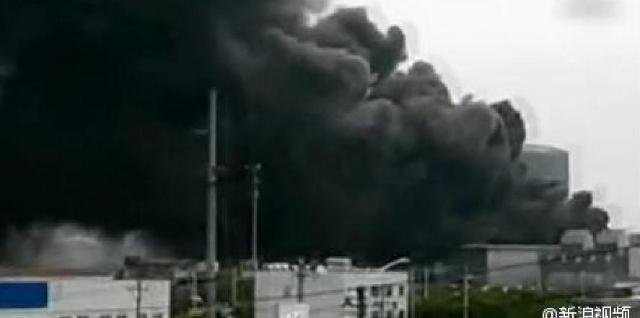smoke: (3, 0, 203, 266), (216, 88, 528, 256), (205, 0, 411, 89), (530, 172, 606, 239)
